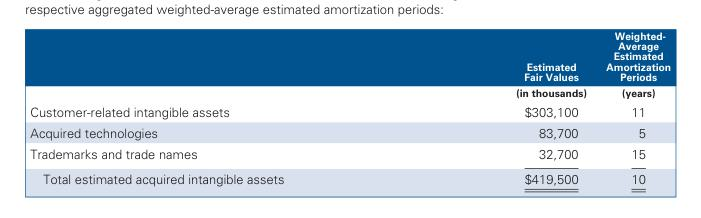table: (29, 29, 670, 186)
table column: (29, 29, 399, 186), (399, 29, 595, 186), (595, 29, 670, 186)
table column header: (29, 29, 670, 101)
table row: (29, 29, 670, 101), (29, 142, 670, 165), (29, 101, 670, 122), (29, 165, 670, 186), (29, 122, 670, 142)
